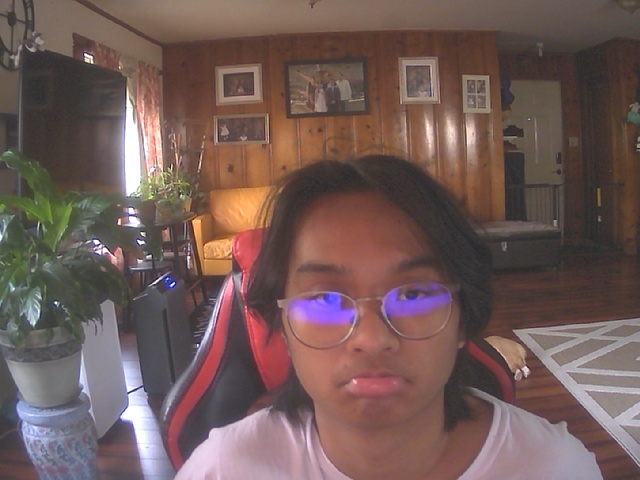sad: (272, 168, 477, 431)
